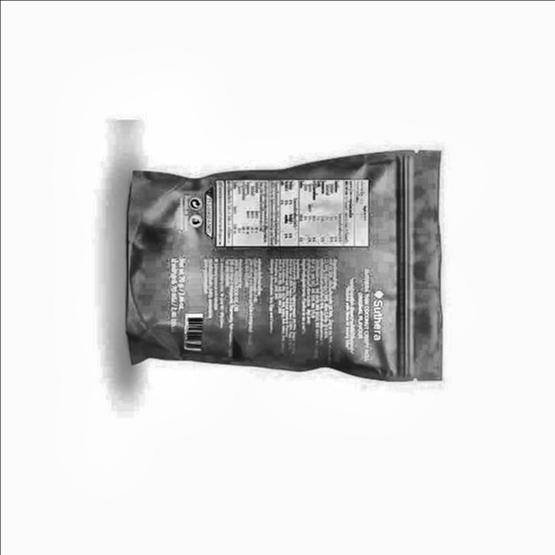snackbag: (72, 100, 470, 447)
